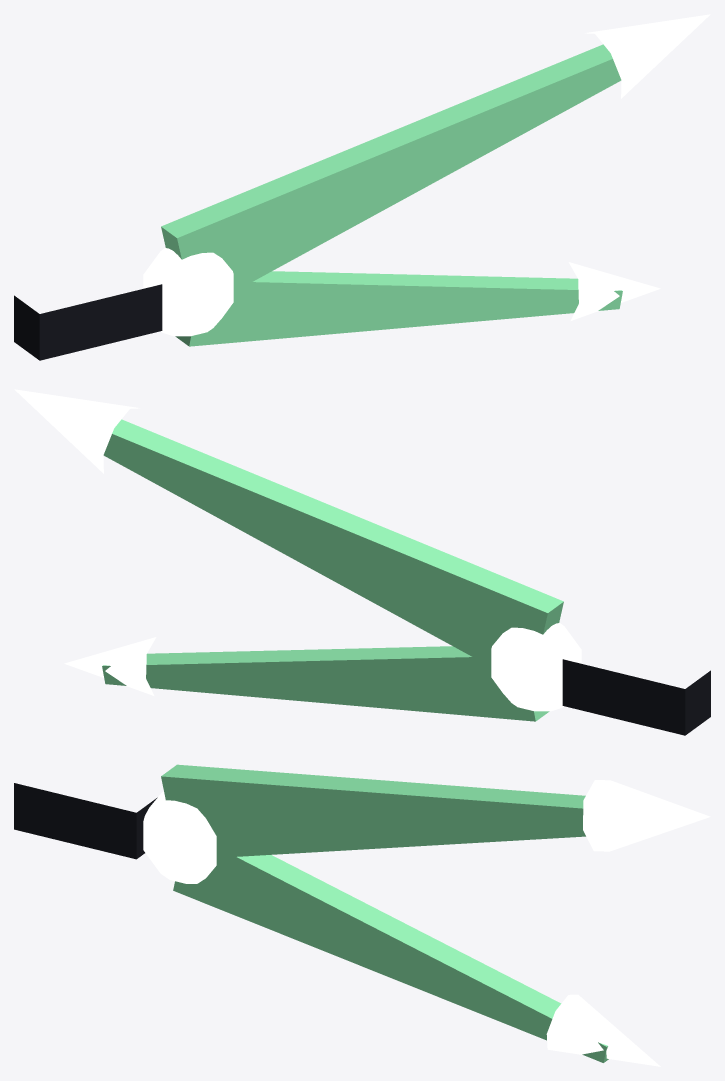
Rendered from butterfly.glb.
3 renders of one model, top to bottom at view 1: azimuth 30°, elevation 25°; view 2: azimuth 150°, elevation 25°; view 3: azimuth 330°, elevation 25°, orthographic.
Visible parts, largest first — view 1: butterfly-wing-upper, butterfly-wing-lower, butterfly-grip, butterfly-hilt-orb, butterfly-upper-tip, butterfly-lower-tip; view 2: butterfly-wing-upper, butterfly-wing-lower, butterfly-grip, butterfly-hilt-orb, butterfly-upper-tip, butterfly-lower-tip; view 3: butterfly-wing-upper, butterfly-wing-lower, butterfly-grip, butterfly-upper-tip, butterfly-hilt-orb, butterfly-lower-tip.
Boxes of the visible parts, x1=… form: butterfly-wing-upper: x1=161, y1=44, x2=621, y2=291; butterfly-wing-lower: x1=175, y1=271, x2=622, y2=346; butterfly-grip: x1=14, y1=284, x2=162, y2=360; butterfly-hilt-orb: x1=143, y1=248, x2=233, y2=336; butterfly-upper-tip: x1=585, y1=14, x2=710, y2=98; butterfly-lower-tip: x1=568, y1=262, x2=660, y2=320; butterfly-wing-upper: x1=103, y1=419, x2=563, y2=662; butterfly-wing-lower: x1=102, y1=646, x2=549, y2=721; butterfly-grip: x1=562, y1=659, x2=710, y2=735; butterfly-hilt-orb: x1=491, y1=623, x2=581, y2=711; butterfly-upper-tip: x1=14, y1=389, x2=139, y2=473; butterfly-lower-tip: x1=64, y1=637, x2=156, y2=695; butterfly-wing-upper: x1=161, y1=764, x2=585, y2=857; butterfly-wing-lower: x1=173, y1=847, x2=608, y2=1062; butterfly-grip: x1=14, y1=783, x2=157, y2=859; butterfly-upper-tip: x1=583, y1=780, x2=710, y2=851; butterfly-hilt-orb: x1=143, y1=791, x2=216, y2=883; butterfly-lower-tip: x1=546, y1=994, x2=660, y2=1066.
Size of the model in its own units: 1.23 by 0.4779 by 0.12.
